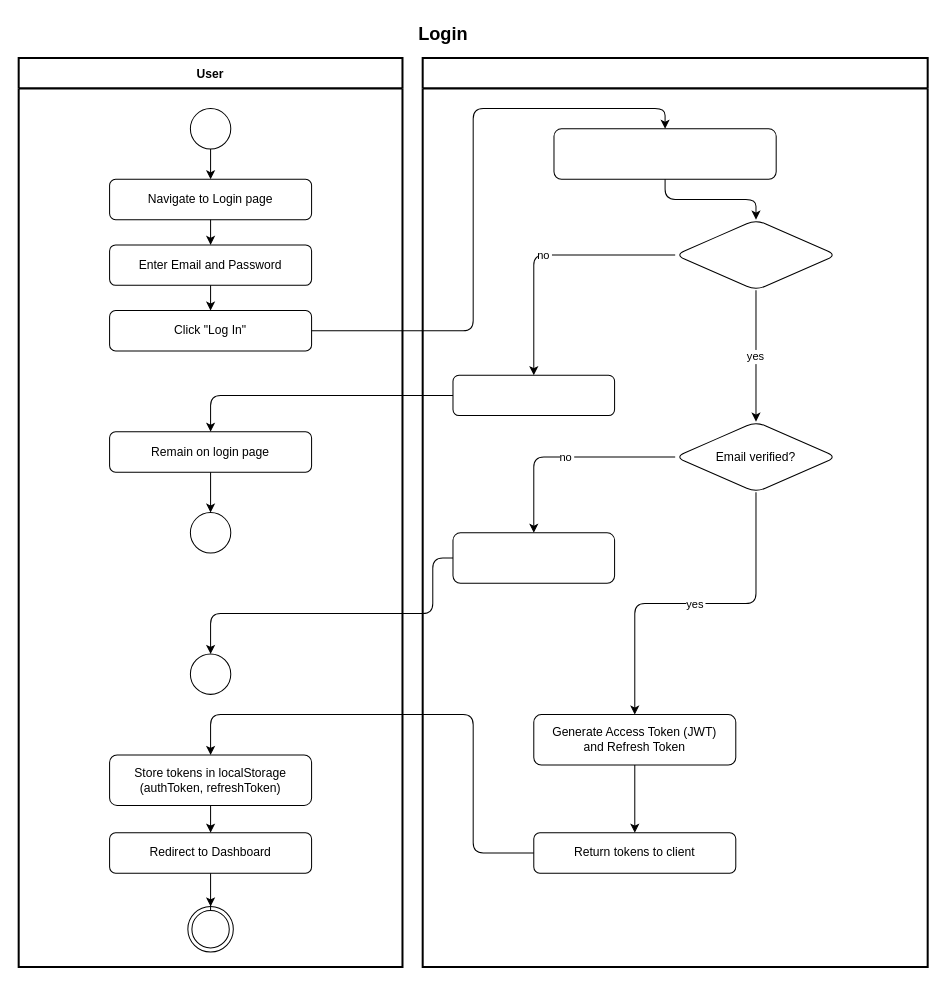
This 945x985 diagram has some shape labels left out. The box of each missing label's shape, as (x1, y1, x2, y2) in pixels:
Credentials valid?: (674, 219, 837, 290)
Display "Please verify your email" message: (452, 532, 615, 583)
Return HTTP 401 Display error message: (452, 374, 615, 416)
System: (421, 57, 928, 968)
Validate credentials against database: (553, 128, 776, 179)
